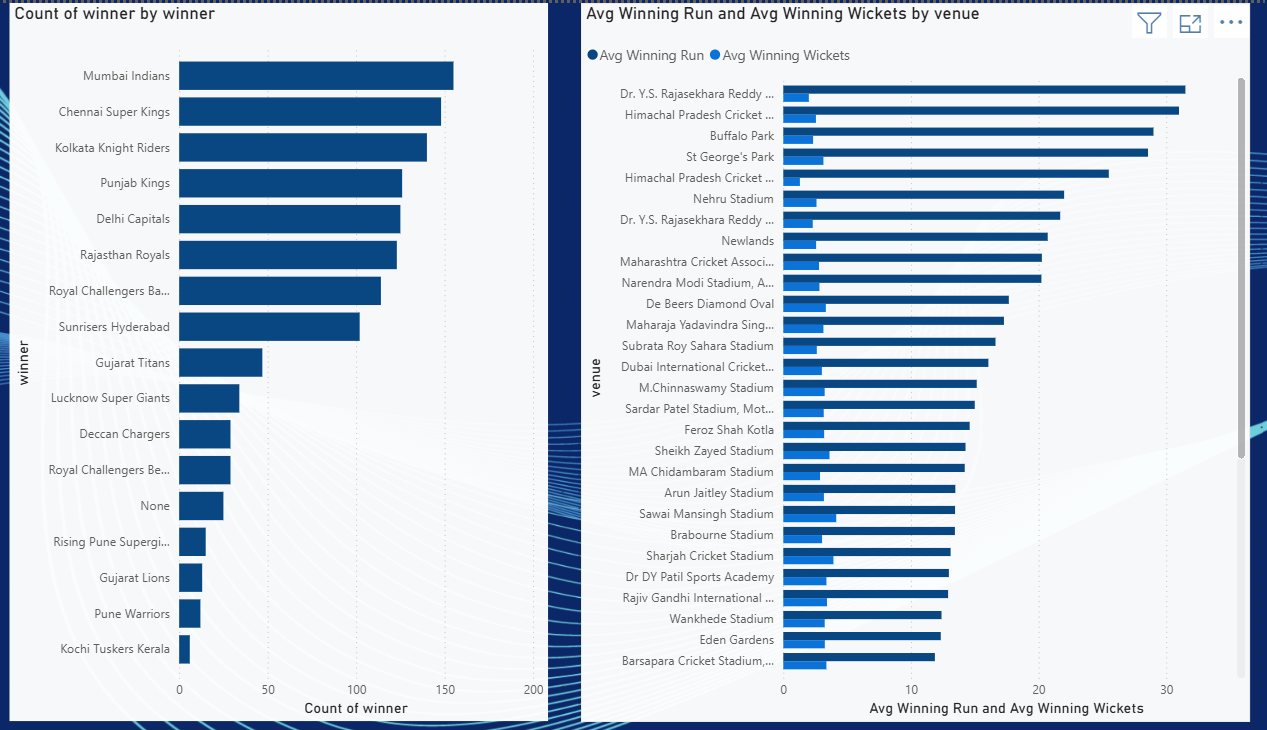

The page's visual inventory and layout, read from the dashboard file:
{"tool":"powerbi","page":{"name":"count rate","canvas":[1280,720],"ordinal":2},"visuals":[{"type":"barChart","fields":{"Category":["ipl_comprehensive_dataset.winner"],"Y":["CountNonNull(ipl_comprehensive_dataset.winner)"]},"box":[16,0,528,704],"z":0},{"type":"clusteredBarChart","fields":{"Category":["ipl_comprehensive_dataset.venue"],"Y":["ipl_comprehensive_dataset.Avg Winning Run","ipl_comprehensive_dataset.Avg Winning Wickets"]},"box":[576,0,656,704],"z":1}]}

Visuals, with their boxes in screenshot pixels (x1, y1, x2, y2), scaled from the page's 1280x720 canvas onto the 1267x730 screenshot:
barChart - ipl_comprehensive_dataset.winner x CountNonNull(ipl_comprehensive_dataset.winner): rect(16, 0, 538, 714)
clusteredBarChart - ipl_comprehensive_dataset.venue x ipl_comprehensive_dataset.Avg Winning Run: rect(570, 0, 1219, 714)
